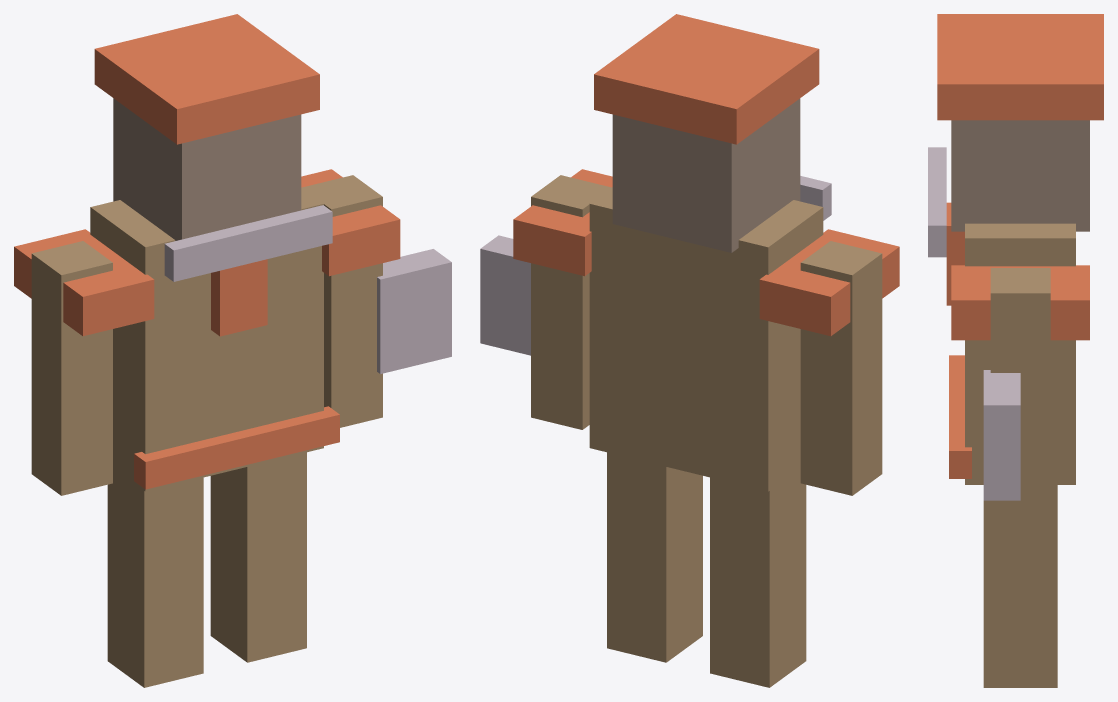
File: 08_tamsin_stormhush_specialist_under_feedback.glb
The picture shows the model from 3 angles, left to right: view 1: azimuth 30°, elevation 25°; view 2: azimuth 150°, elevation 25°; view 3: azimuth 270°, elevation 25°; orthographic projection.
Visible parts, largest first — view 1: Tamsin Stormhush, Specialist under Feedback; view 2: Tamsin Stormhush, Specialist under Feedback; view 3: Tamsin Stormhush, Specialist under Feedback.
Boxes of the visible parts, bbox=[...] form: Tamsin Stormhush, Specialist under Feedback: bbox=[14, 14, 451, 687]; Tamsin Stormhush, Specialist under Feedback: bbox=[480, 14, 899, 687]; Tamsin Stormhush, Specialist under Feedback: bbox=[928, 14, 1103, 687].
Size of the model in its own units: 0.9688 by 1.42 by 0.3776.
